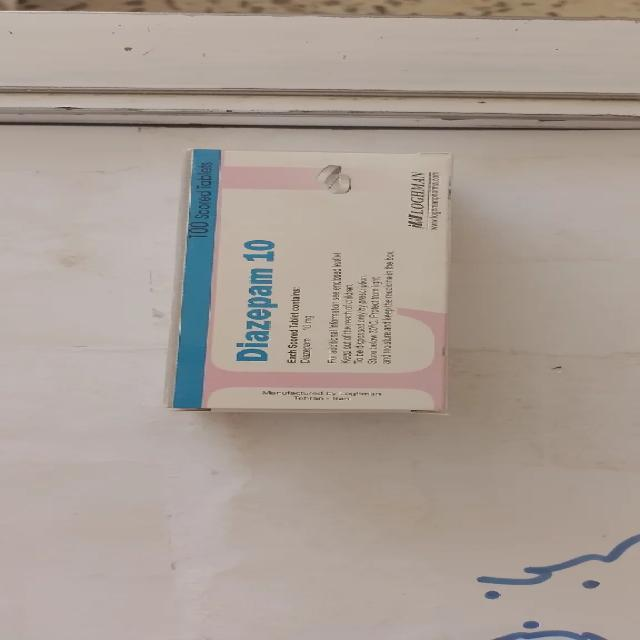drug-name: (230, 230, 278, 364)
